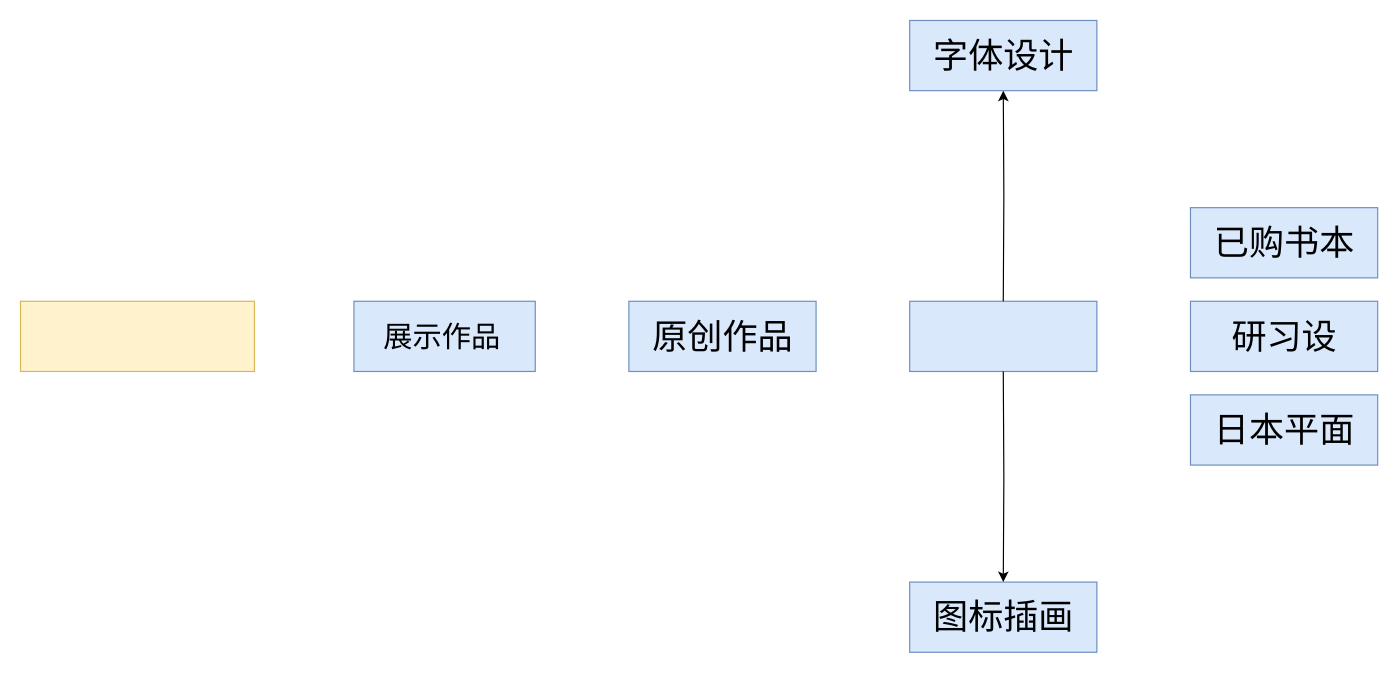
The diagram is 1398 pixels wide and 673 high, and some of its shapes have lost their labels. The centre of each missing label's shape, as x and y in pixels:
"平面设计接单" goes at point 136,335.
"版面设计" goes at point 1003,335.
